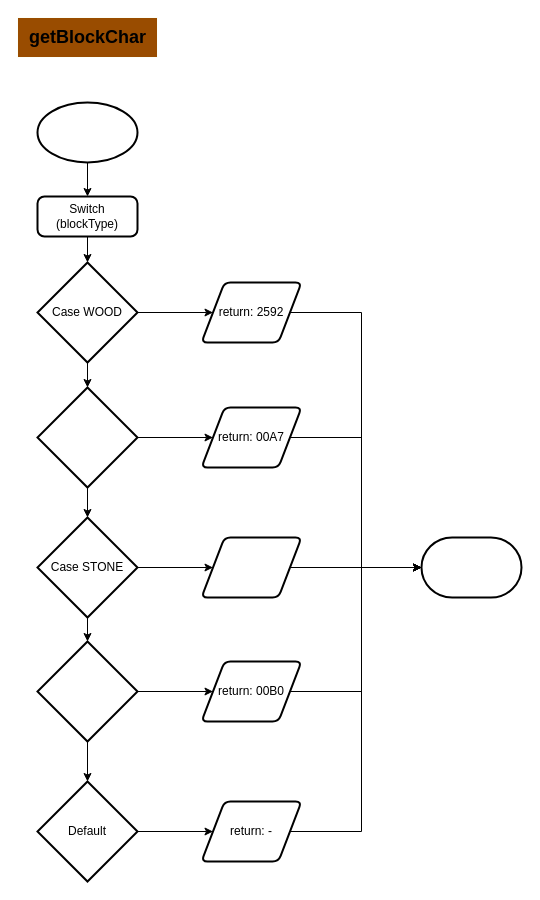
The diagram is 540 pixels wide and 900 high, and some of its shapes have lost their labels. The box of each missing label's shape, as (x1, y1, x2, y2) in pixels:
Case IRON_ORE: (36, 640, 138, 742)
Case LEAVES: (36, 386, 138, 488)
End Function: (420, 536, 522, 598)
return: 2593: (200, 536, 302, 598)
Start: (36, 101, 138, 163)
